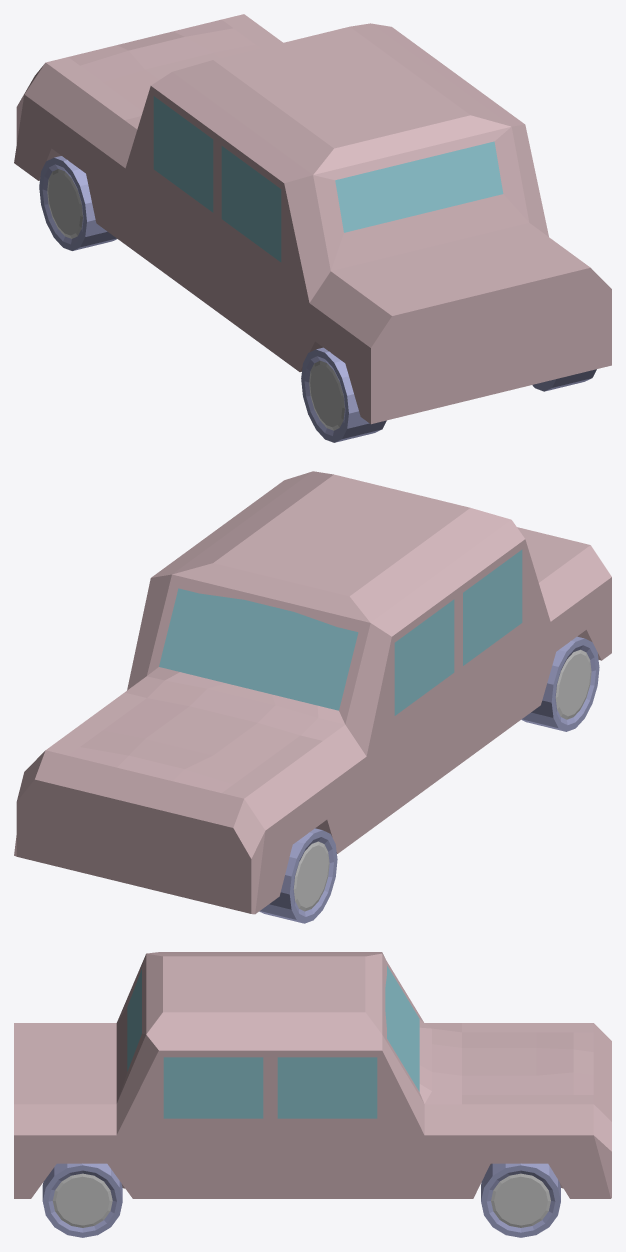
The model's file is car.fbx.
3 renders of one model, top to bottom at view 1: azimuth 30°, elevation 25°; view 2: azimuth 150°, elevation 25°; view 3: azimuth 270°, elevation 25°, orthographic. The views are drawn at different scales.
Visible parts, largest first — view 1: Cube, Cylinder; view 2: Cube, Cylinder; view 3: Cube, Cylinder.
Boxes of the visible parts, bbox=[...] form: Cube: bbox=[14, 14, 611, 424]; Cylinder: bbox=[39, 156, 596, 442]; Cube: bbox=[14, 471, 611, 914]; Cylinder: bbox=[259, 636, 599, 923]; Cube: bbox=[14, 952, 611, 1198]; Cylinder: bbox=[42, 1163, 560, 1237].
Size of the model in its own units: 245 by 226 by 606.
